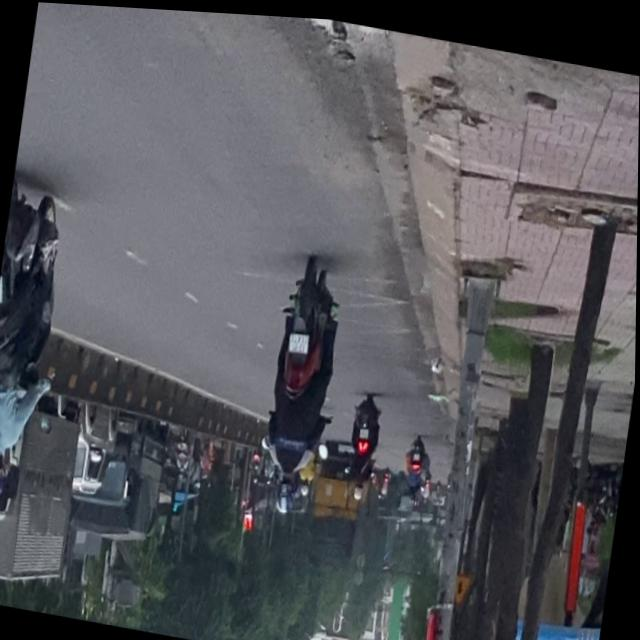helmet: (272, 465, 299, 511), (0, 449, 9, 506)
licenseplate: (251, 246, 350, 517), (0, 171, 74, 516)
nohelmet: (287, 328, 309, 351)
